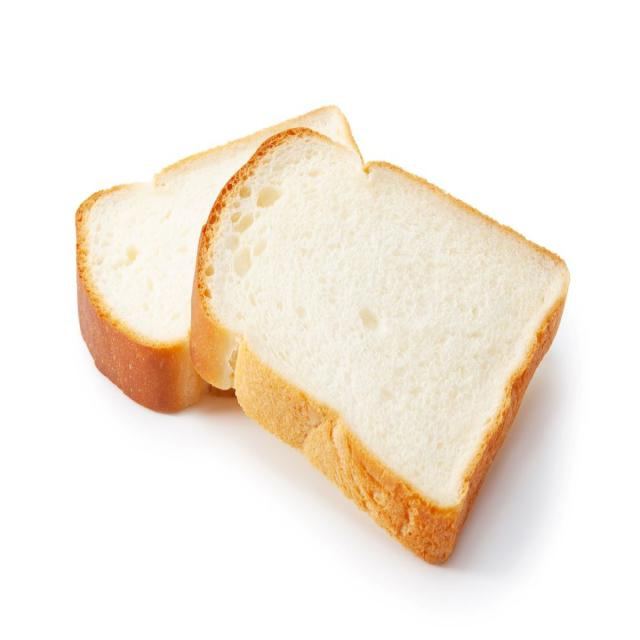Bread: (191, 129, 569, 562), (76, 107, 358, 412)
